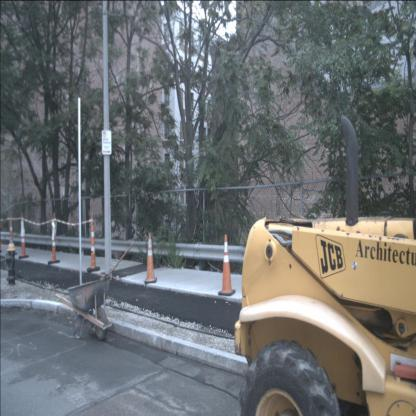cone: (218, 234, 236, 296), (86, 212, 100, 273), (144, 232, 157, 284), (48, 212, 60, 264), (18, 212, 30, 259), (6, 212, 17, 257)
